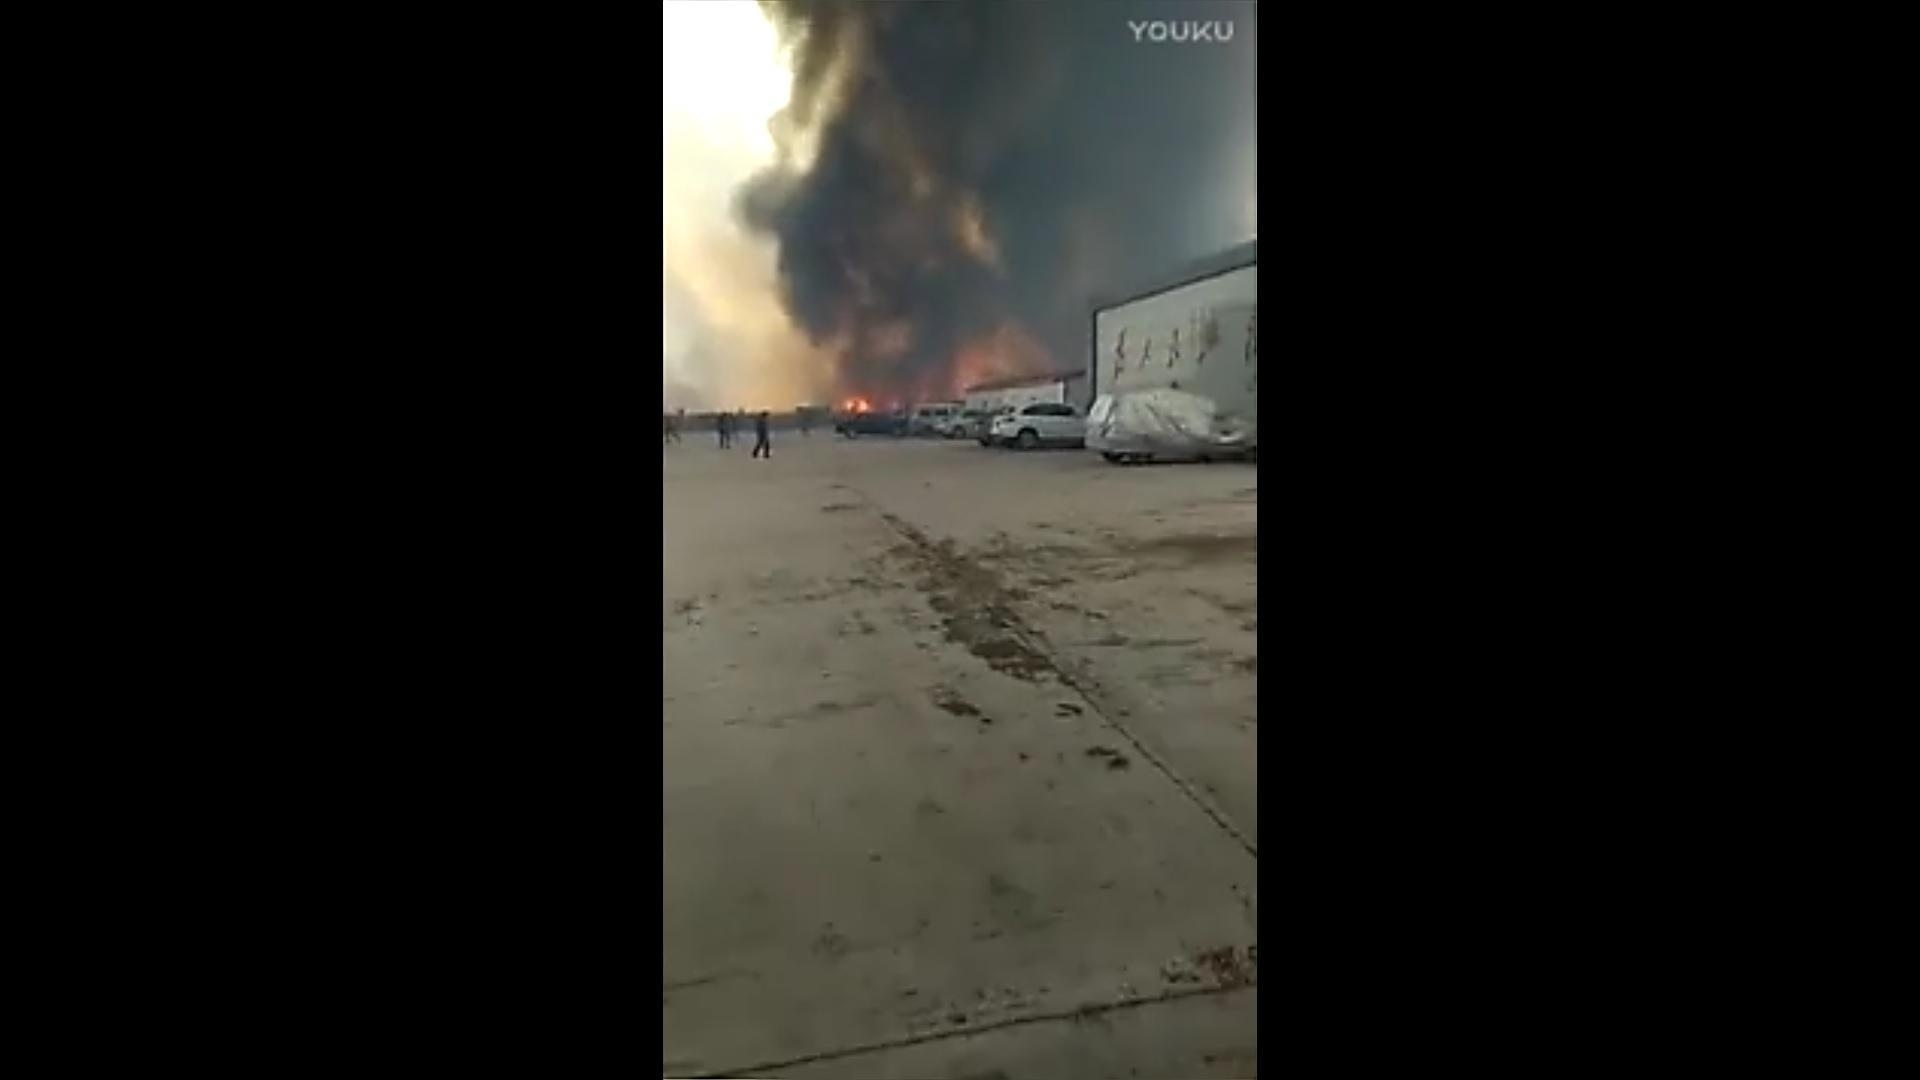fire: (839, 392, 873, 419)
